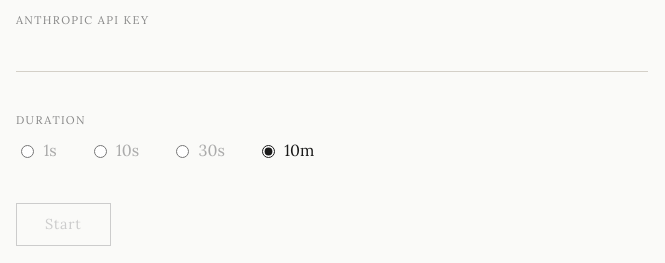
Scenario: Exercise › allows selecting a different duration
What coordinates should you click on to do the following:
click the radio button labelled "30s"
I would click on:
 (183, 152)
Its box is [176,145,189,158].
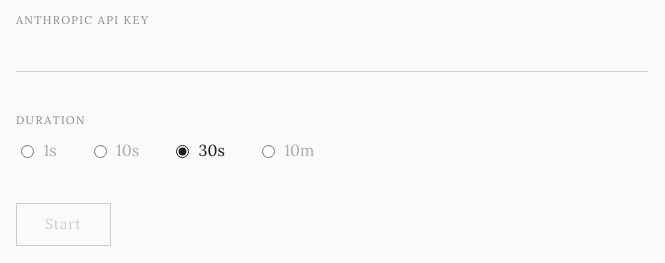
Expected: the radio button labelled "30s" is checked, [176,145,189,158]
Expected: the radio button labelled "10m" is not checked, [262,145,275,158]
